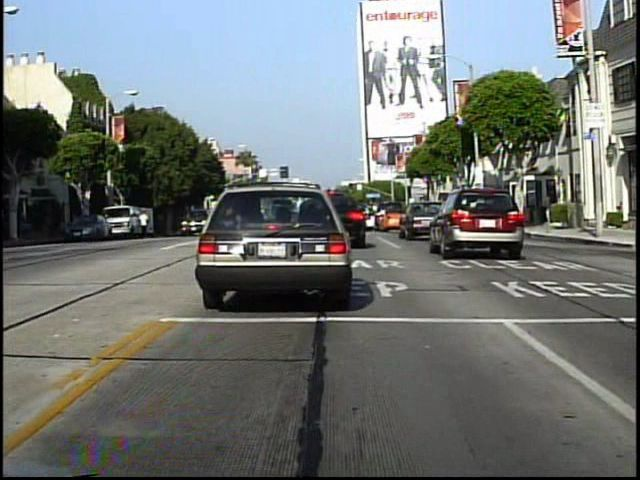person: (139, 208, 152, 243)
